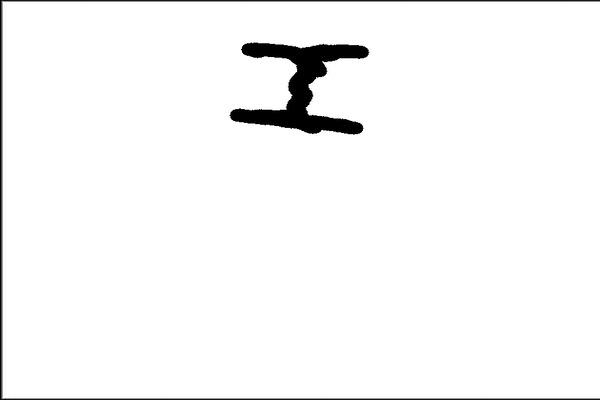i: (227, 29, 370, 133)
